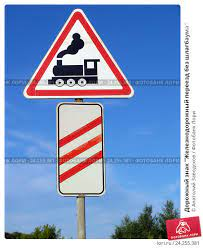1.2: (24, 8, 136, 97)
1.4.1: (54, 101, 104, 195)
